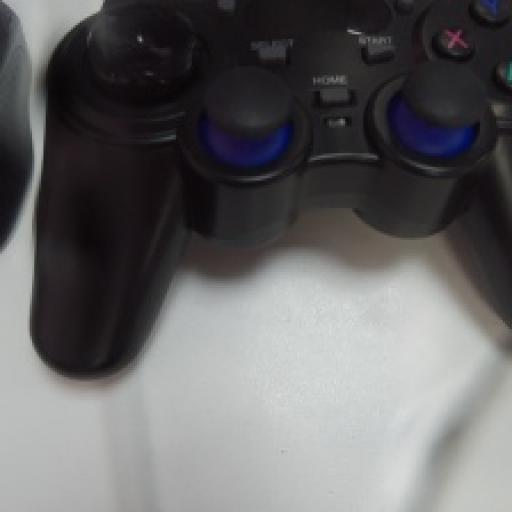game pad: (30, 0, 510, 375)
